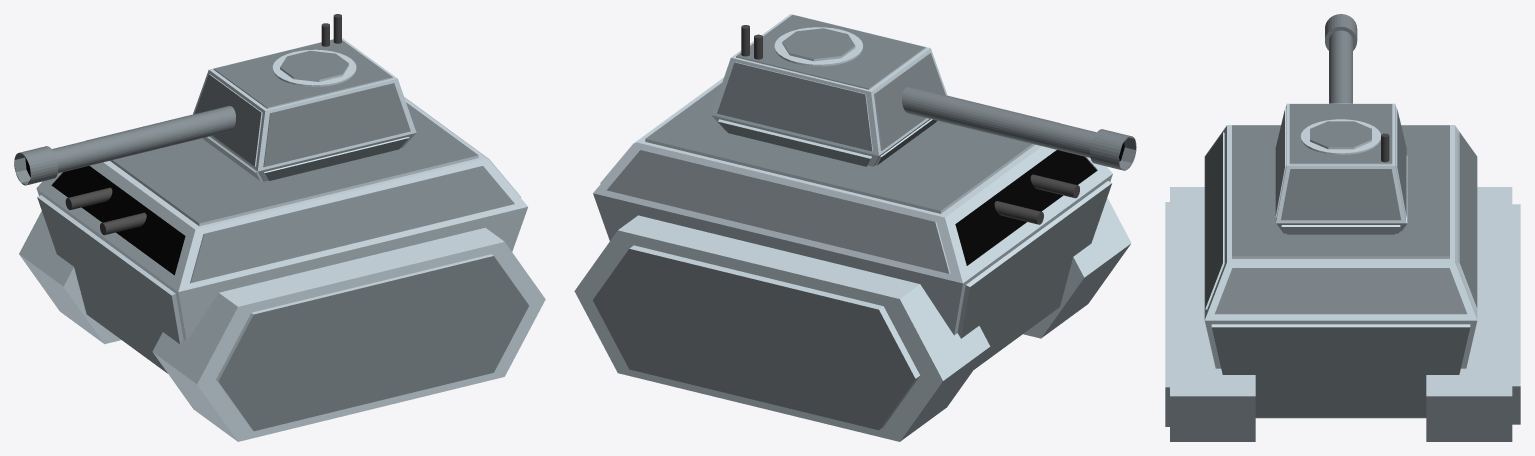
The model's file is superTank.gltf.
The picture shows the model from 3 angles, left to right: view 1: azimuth 30°, elevation 25°; view 2: azimuth 150°, elevation 25°; view 3: azimuth 270°, elevation 25°; orthographic projection. The views are drawn at different scales.
Visible parts, largest first — view 1: Cube.003, Cube.001, Cube.004, Cylinder.001, Cube.002, Cylinder, Cylinder.002, Cylinder.009, Cylinder.003; view 2: Cube.003, Cube.002, Cube.004, Cylinder.001, Cube.001, Cylinder, Cylinder.002, Cylinder.009, Cylinder.003; view 3: Cube.003, Cube.002, Cube.004, Cube.001, Cylinder, Cylinder.001, Cylinder.002.
Boxes of the visible parts, x1=… form: Cube.003: x1=36, y1=97, x2=527, y2=373; Cube.001: x1=152, y1=227, x2=545, y2=441; Cube.004: x1=193, y1=38, x2=416, y2=181; Cylinder.001: x1=52, y1=106, x2=235, y2=173; Cube.002: x1=19, y1=211, x2=120, y2=344; Cylinder: x1=272, y1=49, x2=356, y2=86; Cylinder.002: x1=14, y1=146, x2=58, y2=185; Cylinder.009: x1=65, y1=187, x2=112, y2=209; Cylinder.003: x1=100, y1=212, x2=146, y2=235; Cube.003: x1=593, y1=77, x2=1112, y2=369; Cube.002: x1=574, y1=215, x2=990, y2=441; Cube.004: x1=711, y1=14, x2=947, y2=166; Cylinder.001: x1=902, y1=86, x2=1096, y2=157; Cube.001: x1=1023, y1=198, x2=1131, y2=338; Cylinder: x1=774, y1=27, x2=863, y2=66; Cylinder.002: x1=1090, y1=129, x2=1136, y2=170; Cylinder.009: x1=994, y1=201, x2=1043, y2=224; Cylinder.003: x1=1030, y1=174, x2=1079, y2=198; Cube.003: x1=1204, y1=125, x2=1477, y2=418; Cube.002: x1=1426, y1=187, x2=1520, y2=441; Cube.004: x1=1275, y1=103, x2=1407, y2=234; Cube.001: x1=1165, y1=187, x2=1255, y2=441; Cylinder: x1=1300, y1=119, x2=1380, y2=154; Cylinder.001: x1=1329, y1=30, x2=1352, y2=103; Cylinder.002: x1=1325, y1=14, x2=1357, y2=50.
Bounding box in the file's own units: 2.65 × 1.69 × 1.94.
